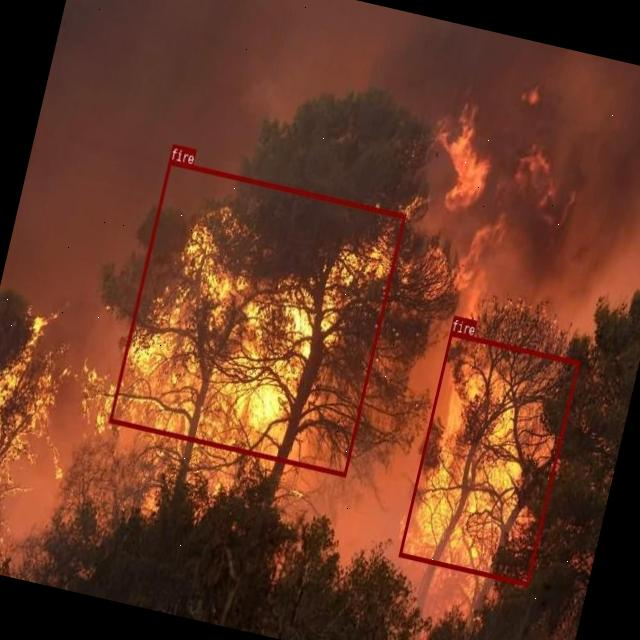fire: (108, 158, 405, 476), (397, 330, 580, 586)
